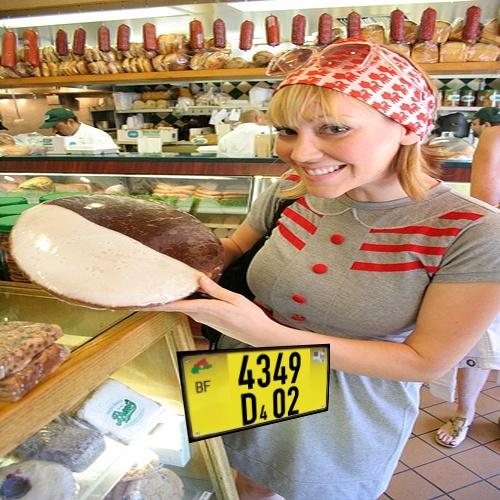plate: (165, 330, 336, 448)
